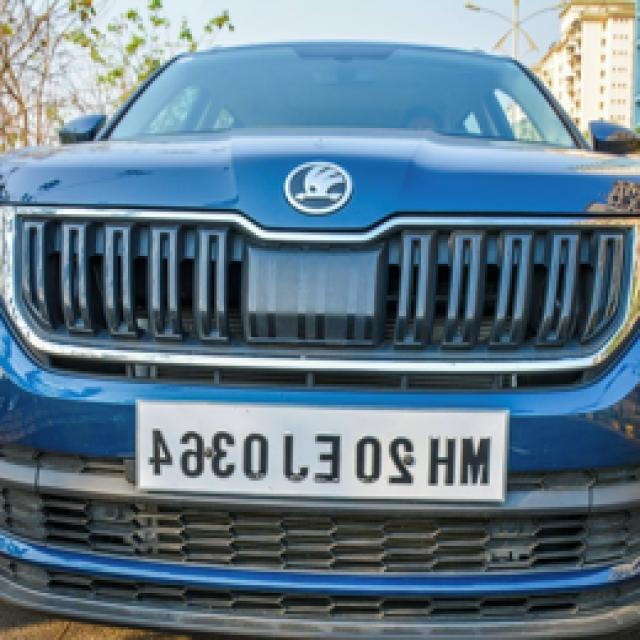number-plate: (128, 415, 514, 490)
